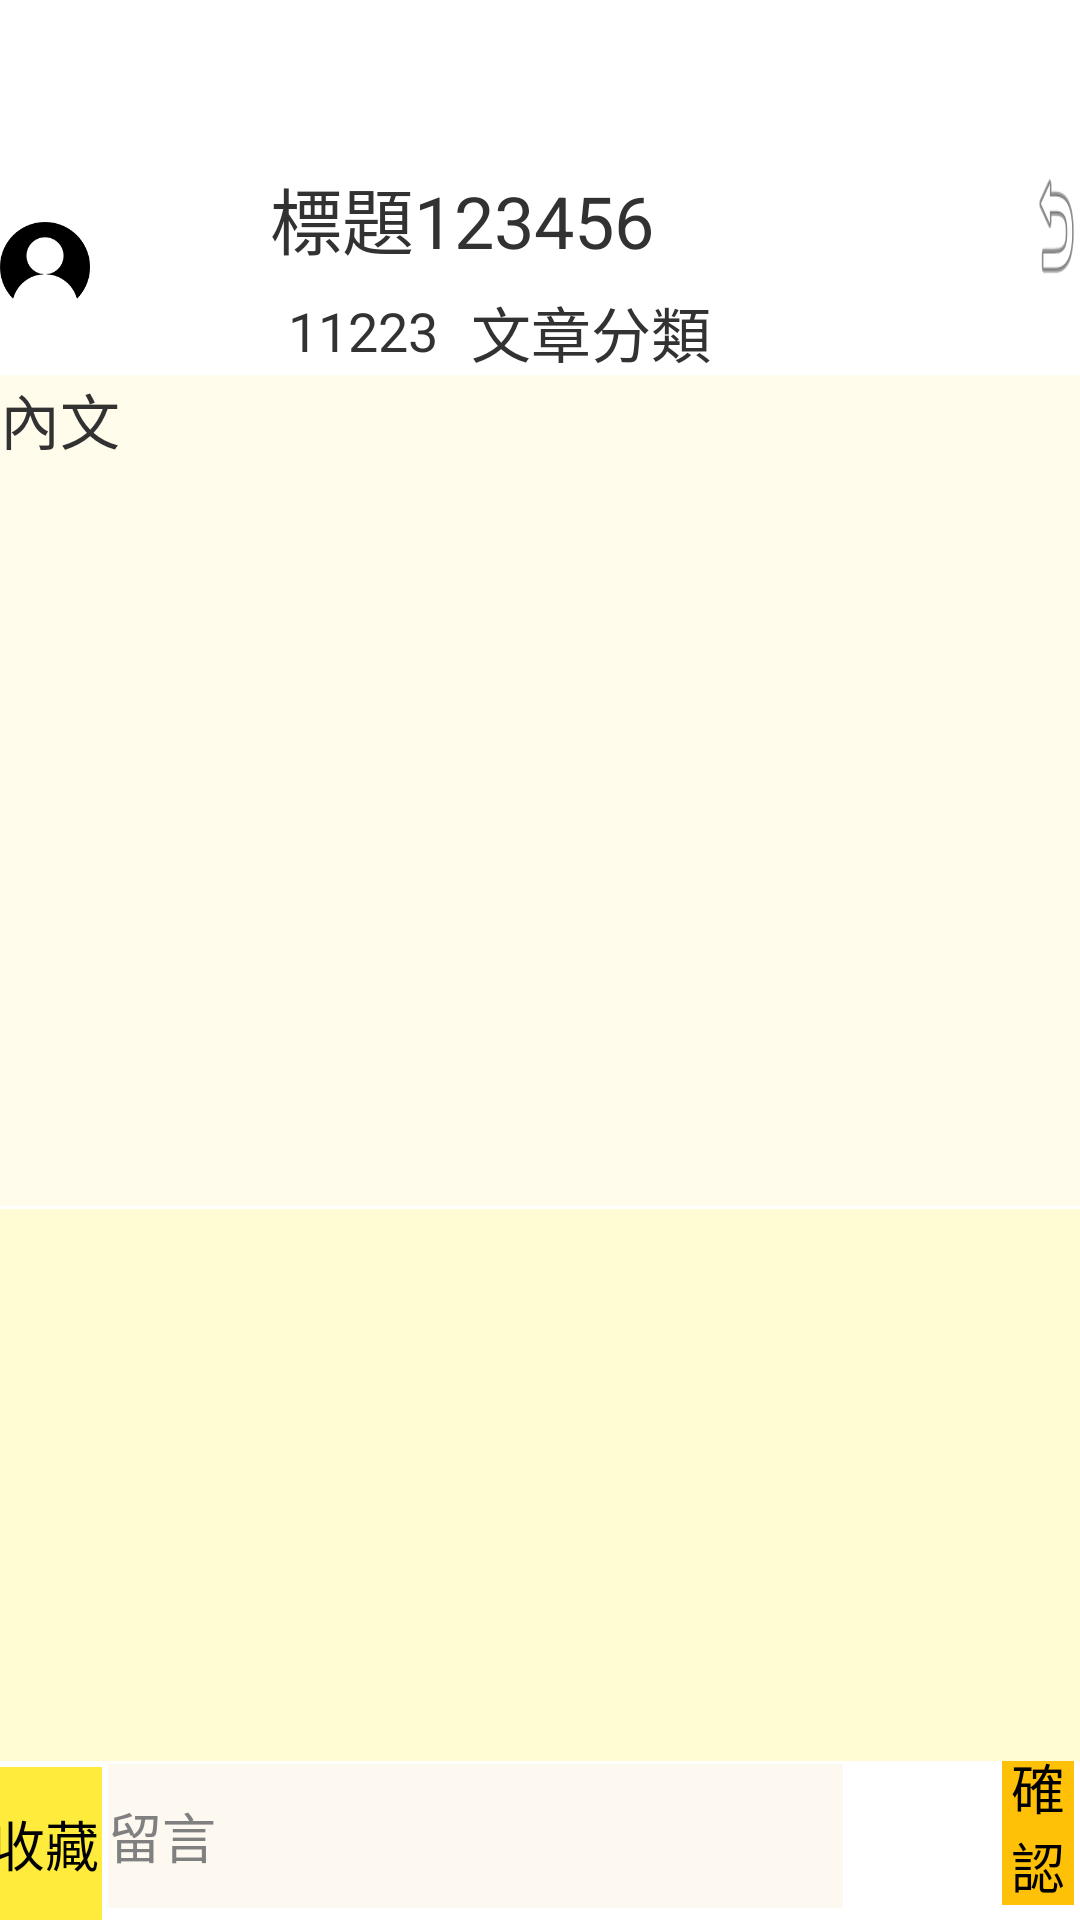

Locate icon controls on the screen. Image size 1080 x 1920, boxes as bbox(x1, y1, x2, y2).
revert: bbox(1039, 179, 1074, 273)
user: bbox(0, 222, 90, 299)
